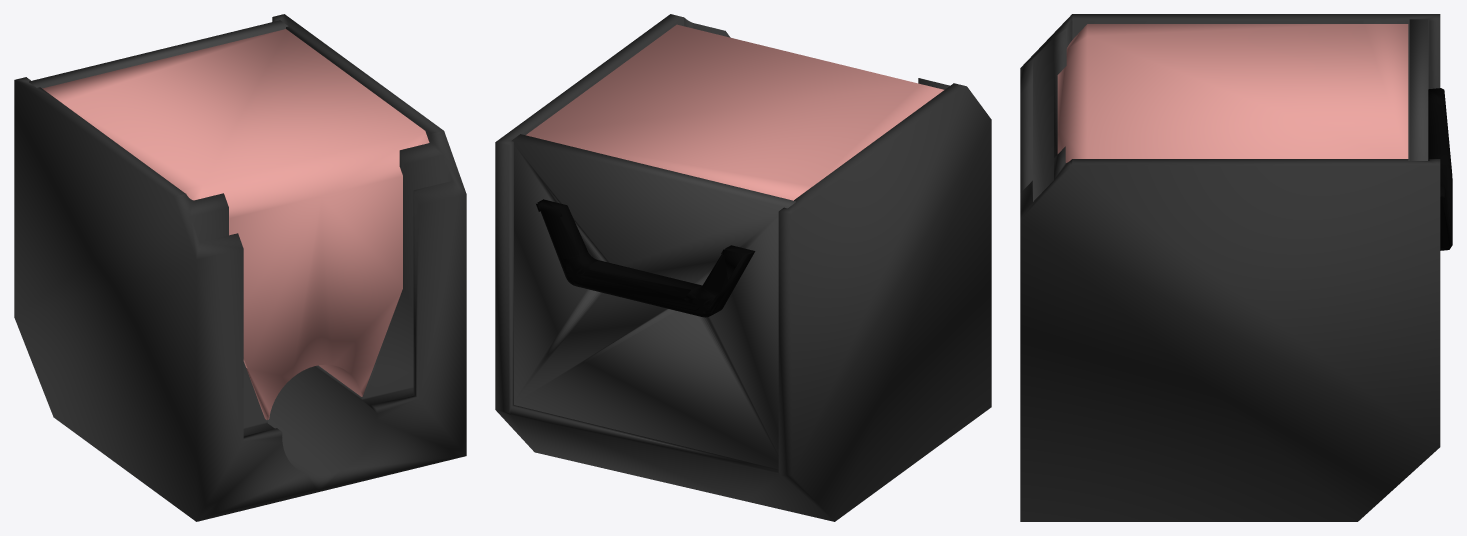
The picture shows the model from 3 angles, left to right: view 1: azimuth 30°, elevation 25°; view 2: azimuth 150°, elevation 25°; view 3: azimuth 270°, elevation 25°; orthographic projection. The views are drawn at different scales.
Parts seen in each view (by area): view 1: TPH-prostate-box, TPH-gel, TPH-prostate-back-cover; view 2: TPH-prostate-box, TPH-prostate-back-cover, TPH-gel, TPH-prostate-handle; view 3: TPH-prostate-box, TPH-gel, TPH-prostate-back-cover, TPH-prostate-handle.
Boxes of the visible parts, left/top/right/bottom form: TPH-prostate-box: left=14, top=14, right=466, bottom=521; TPH-gel: left=42, top=29, right=429, bottom=419; TPH-prostate-back-cover: left=29, top=20, right=288, bottom=88; TPH-prostate-box: left=495, top=14, right=991, bottom=521; TPH-prostate-back-cover: left=511, top=134, right=795, bottom=469; TPH-gel: left=526, top=24, right=943, bottom=200; TPH-prostate-handle: left=536, top=199, right=755, bottom=317; TPH-prostate-box: left=1020, top=14, right=1440, bottom=521; TPH-gel: left=1057, top=24, right=1408, bottom=162; TPH-prostate-back-cover: left=1409, top=19, right=1428, bottom=160; TPH-prostate-handle: left=1428, top=88, right=1452, bottom=250.
Size of the model in its own units: 76.9 by 84 by 92.39.
